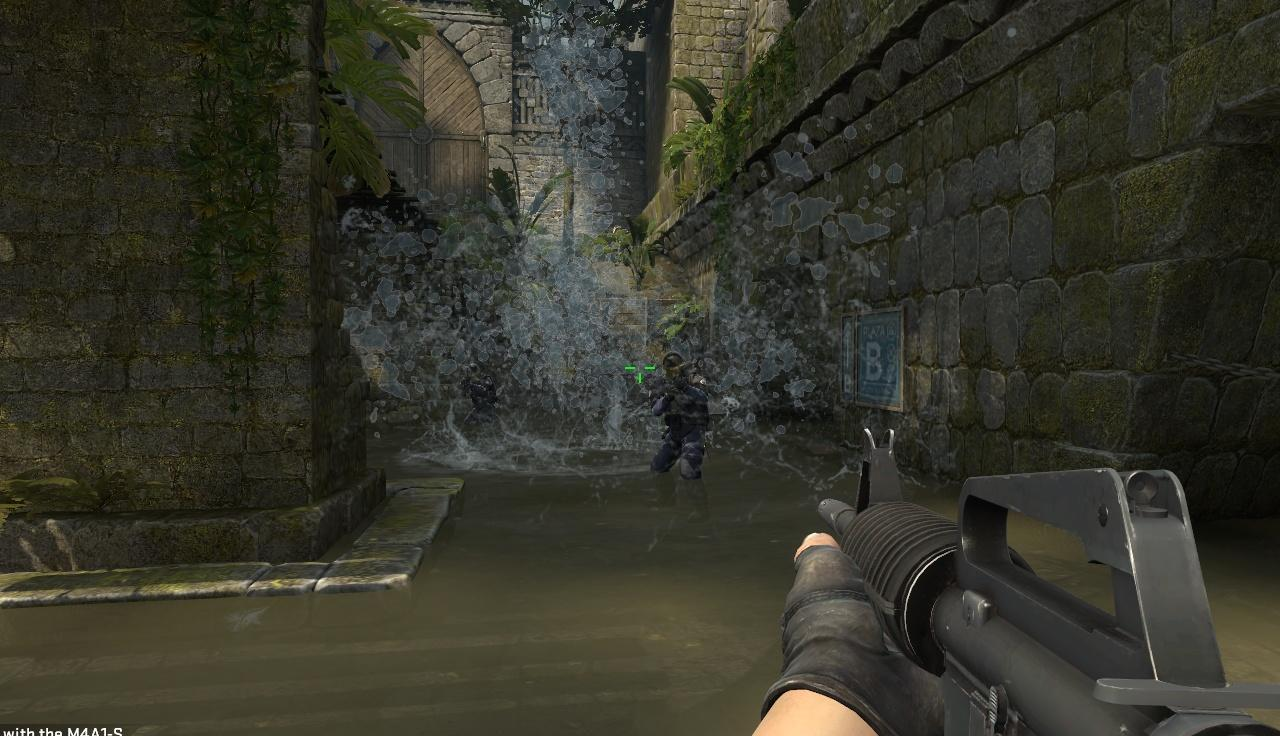ct: (658, 350, 713, 500), (460, 363, 494, 426)
cthead: (665, 353, 688, 386), (464, 364, 481, 380)
rifle: (801, 423, 1280, 731)
